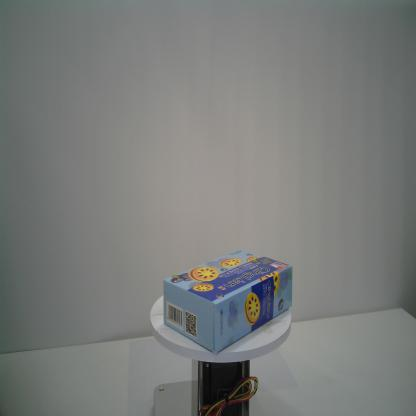Dessert: (163, 249, 293, 354)
